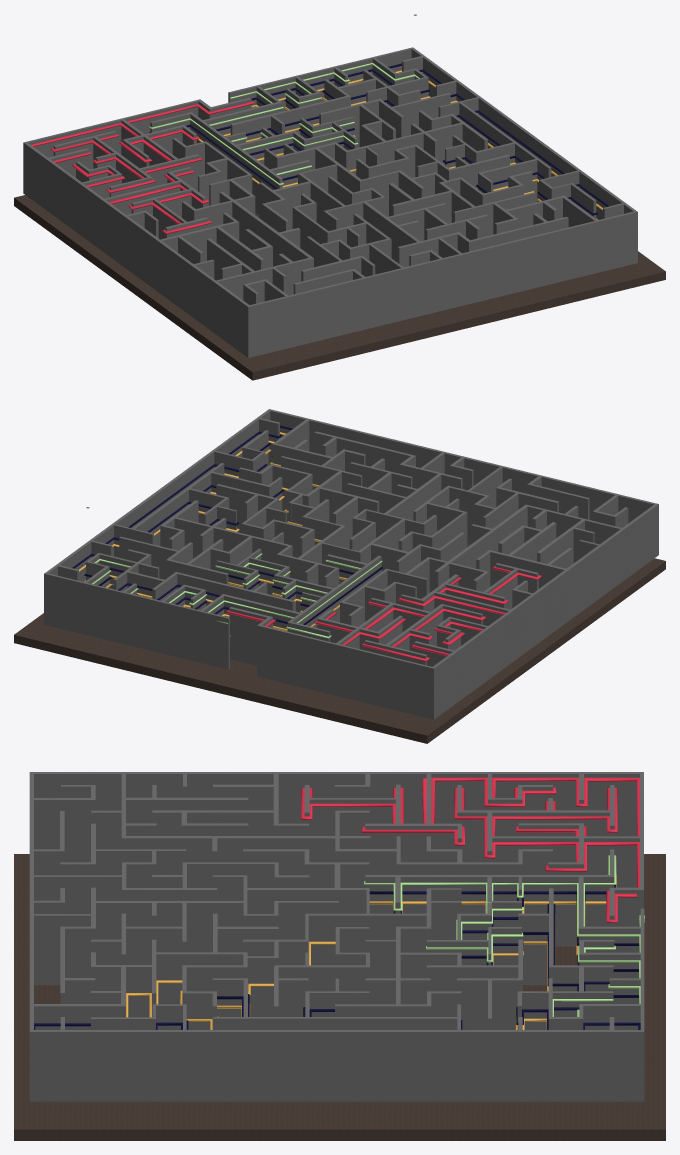
Rendered from mazewallfinalie (1).fbx.
3 renders of one model, top to bottom at view 1: azimuth 30°, elevation 25°; view 2: azimuth 150°, elevation 25°; view 3: azimuth 270°, elevation 25°, orthographic. The views are drawn at different scales.
Parts seen in each view (by area): view 1: Cube.333, Cube.037, Cube.019, Plane, Plane.003, Cube.025, Cube.015, Cube.042, Cube.024, Cube.014, Cube.007, Cube.010 (+42 smaller); view 2: Cube.333, Cube.055, Cube.049, Plane, Cube.058, Plane.003, Cube.269, Cube.282, Cube.010, Cube.267, Cube.014, Cube.007 (+57 smaller); view 3: Cube.333, Cube.046, Cube.045, Plane, Cube.262, Cube.259, Plane.003, Cube.134, Plane.001, Cube.137, Cube.007, Cube.213 (+107 smaller).
Part boxes in pixels (left/top/right/bottom): Cube.333: left=14, top=195, right=665, bottom=380; Cube.037: left=462, top=221, right=596, bottom=305; Cube.019: left=289, top=277, right=363, bottom=347; Plane: left=31, top=101, right=254, bottom=234; Plane.003: left=149, top=63, right=608, bottom=215; Cube.025: left=404, top=258, right=444, bottom=319; Cube.015: left=250, top=296, right=290, bottom=357; Cube.042: left=598, top=211, right=637, bottom=272; Cube.024: left=366, top=267, right=405, bottom=328; Cube.014: left=214, top=282, right=251, bottom=357; Cube.007: left=123, top=215, right=159, bottom=290; Cube.010: left=157, top=239, right=193, bottom=315; Cube.333: left=14, top=543, right=665, bottom=743; Cube.055: left=334, top=643, right=431, bottom=718; Cube.049: left=257, top=624, right=335, bottom=695; Plane: left=226, top=565, right=541, bottom=661; Cube.058: left=160, top=601, right=199, bottom=662; Plane.003: left=72, top=425, right=382, bottom=642; Cube.269: left=85, top=583, right=122, bottom=643; Cube.282: left=124, top=592, right=160, bottom=652; Cube.010: left=565, top=545, right=601, bottom=621; Cube.267: left=47, top=573, right=83, bottom=633; Cube.014: left=622, top=503, right=658, bottom=579; Cube.007: left=531, top=570, right=567, bottom=645; Cube.333: left=14, top=854, right=665, bottom=1140; Cube.046: left=186, top=1030, right=460, bottom=1101; Cube.045: left=65, top=1030, right=186, bottom=1101; Plane: left=301, top=777, right=639, bottom=922; Cube.262: left=522, top=1030, right=609, bottom=1101; Cube.259: left=461, top=1030, right=522, bottom=1101; Plane.003: left=34, top=885, right=640, bottom=1029; Cube.134: left=34, top=798, right=95, bottom=862; Plane.001: left=364, top=855, right=644, bottom=1016; Cube.137: left=34, top=875, right=121, bottom=913; Cube.007: left=278, top=772, right=370, bottom=823; Cube.213: left=518, top=875, right=578, bottom=946.
Size of the model in its own units: 14105 by 4016 by 14105.
6 materials, 2 textured.
